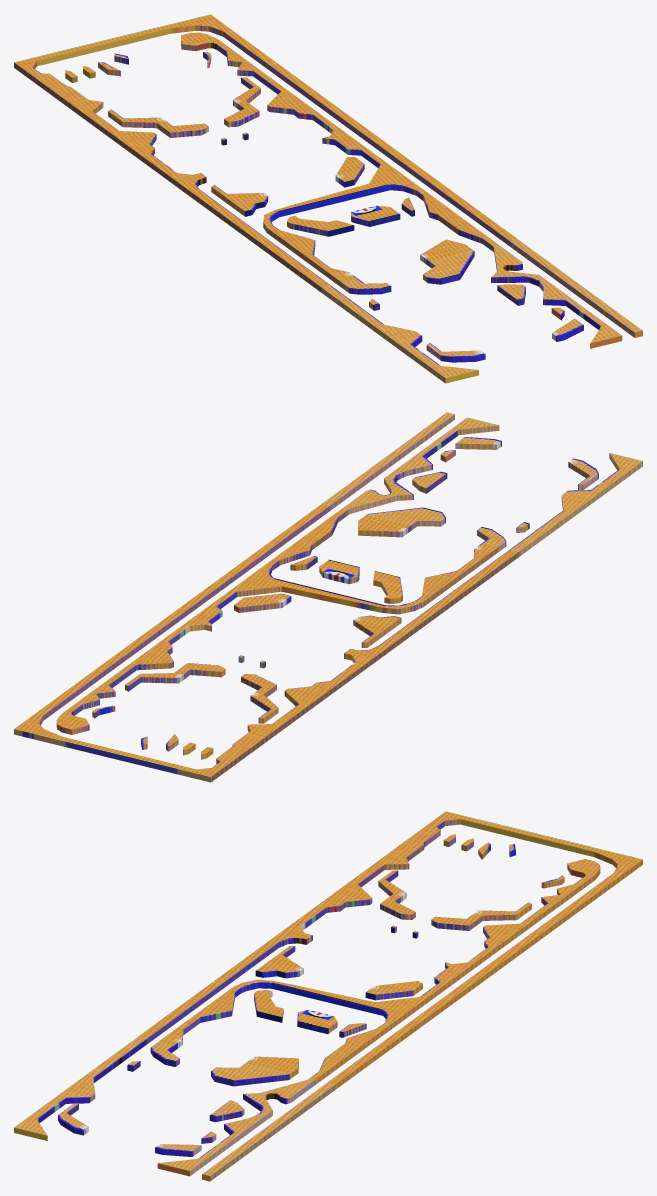
File: table_scene.obj
3 renders of one model, top to bottom at view 1: azimuth 30°, elevation 25°; view 2: azimuth 150°, elevation 25°; view 3: azimuth 330°, elevation 25°, orthographic.
Visible parts, largest first — view 1: Plane.018; view 2: Plane.018; view 3: Plane.018.
Part boxes in pixels (<box>): Plane.018: <box>14,14,642,383</box>; Plane.018: <box>14,412,642,782</box>; Plane.018: <box>14,811,642,1181</box>.
Bounding box in the file's own units: 9.58 × 0.25 × 36.45.
1 material, 1 textured.
